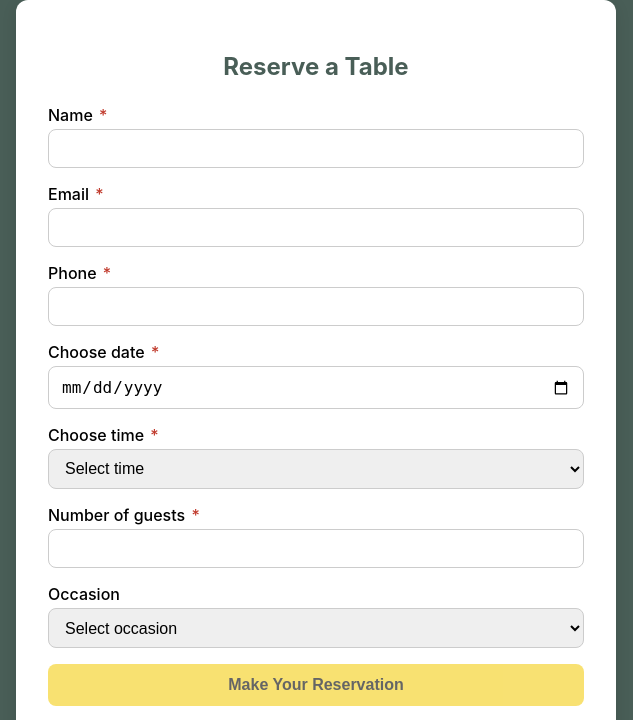
Test case: BookingForm submission › enables submit button when form is valid
The width and height of the screenshot is (633, 720).
// fill all required fields
Type "John Doe" into the field labelled "Name *" at (316, 148), box [48, 129, 584, 168]
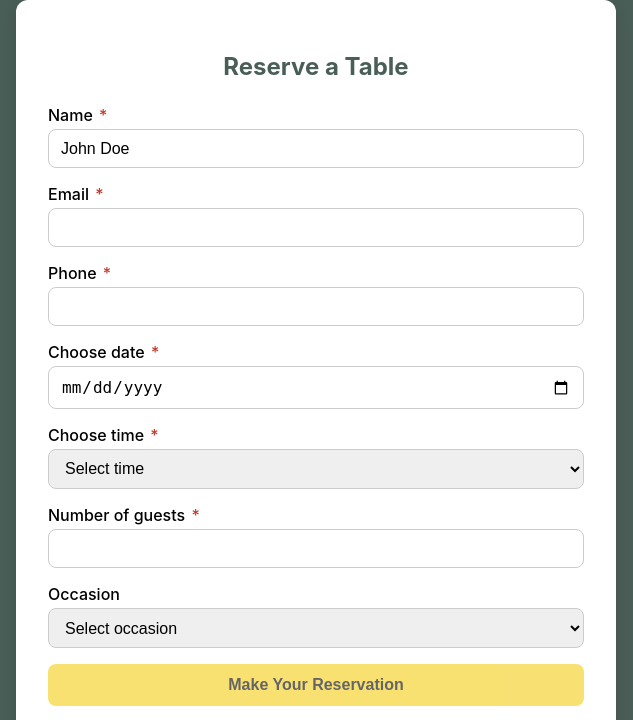
Type "john@test.com" into the field labelled "Email *" at (316, 228), box [48, 208, 584, 247]
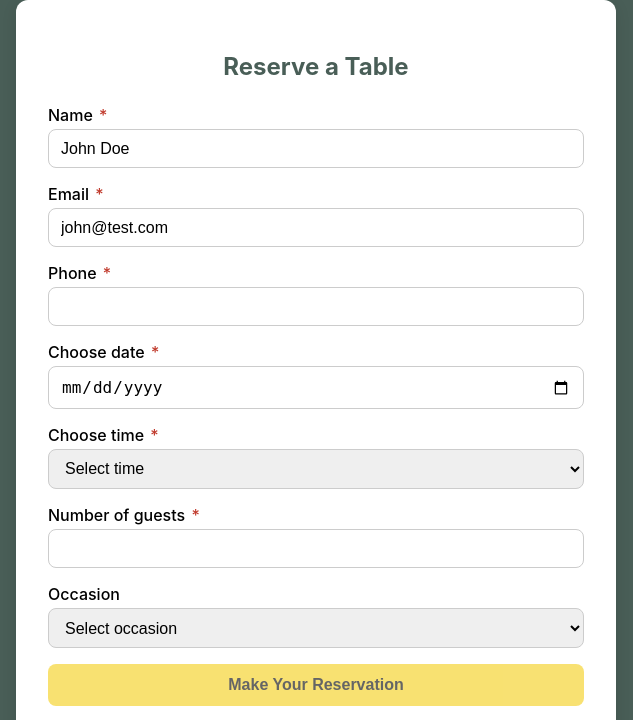
Type "1234567" into the field labelled "Phone *" at (316, 307), box [48, 287, 584, 326]
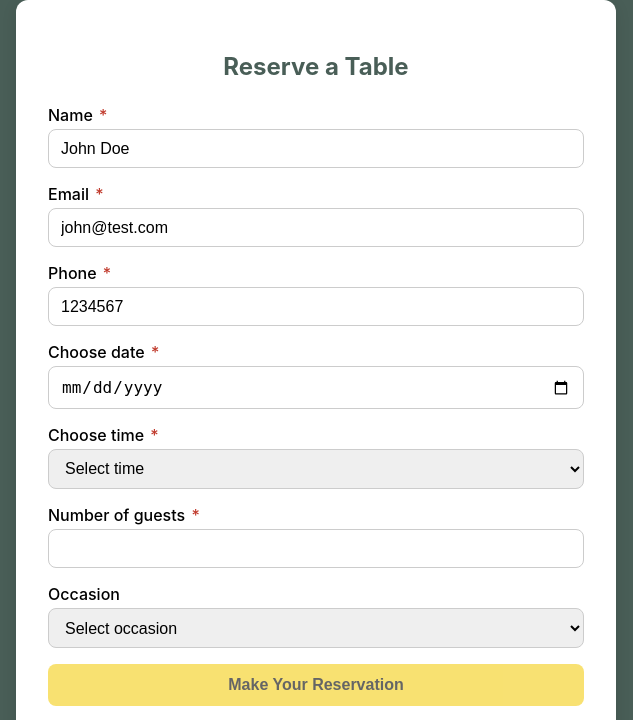
Type "2026-02-10" into the date field labelled "Choose date *" at (316, 388), box [48, 366, 584, 409]
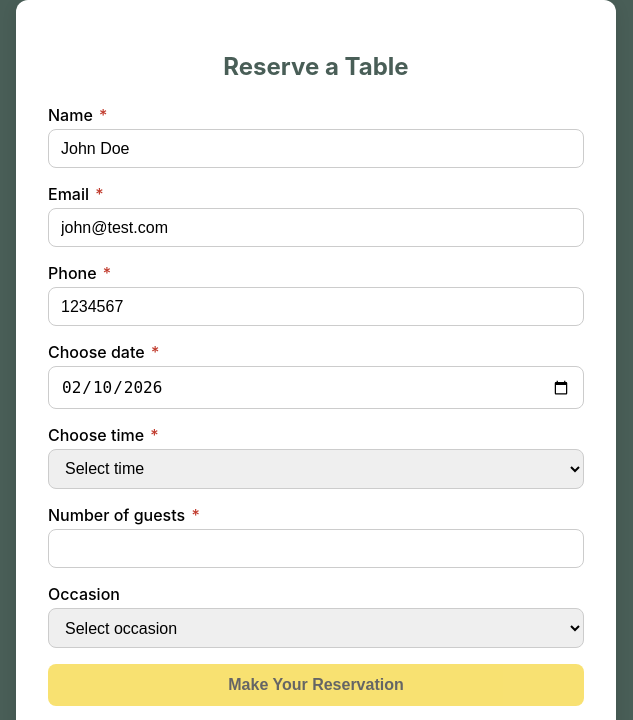
Select "18:00" in the dropdown labelled "Choose time *" at (316, 469), box [48, 449, 584, 489]
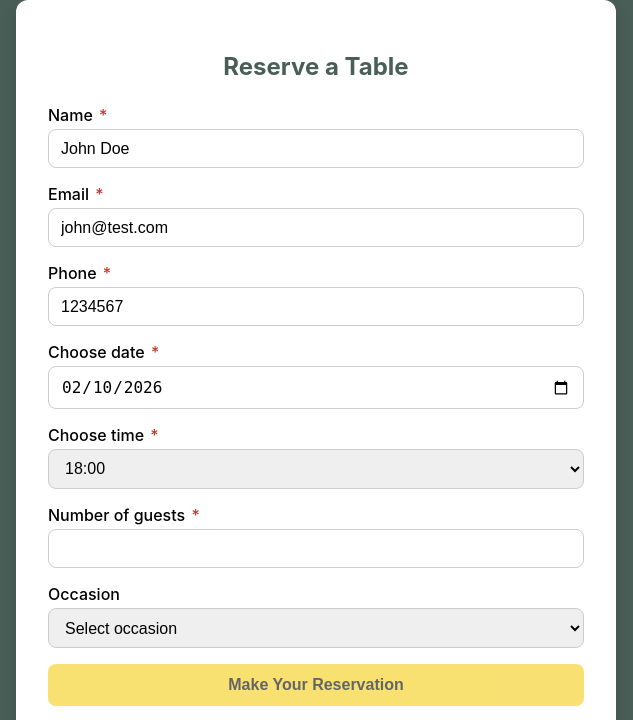
Type "2" into the number field labelled "Number of guests *" at (316, 548), box [48, 529, 584, 568]
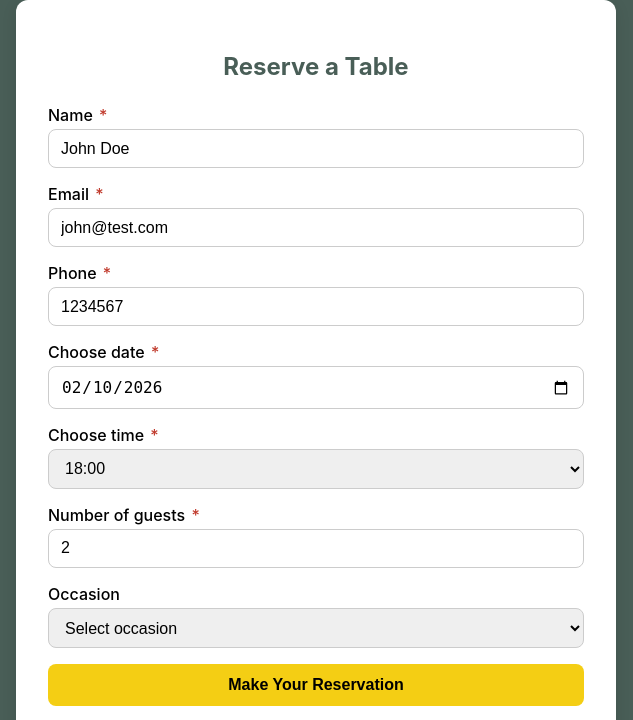
Expected: the button "Make Your Reservation" is enabled, [48, 664, 584, 706]
